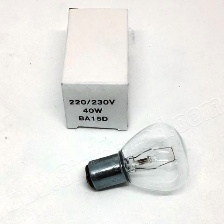carton: (58, 5, 134, 133)
light_bulb: (81, 119, 193, 195)
